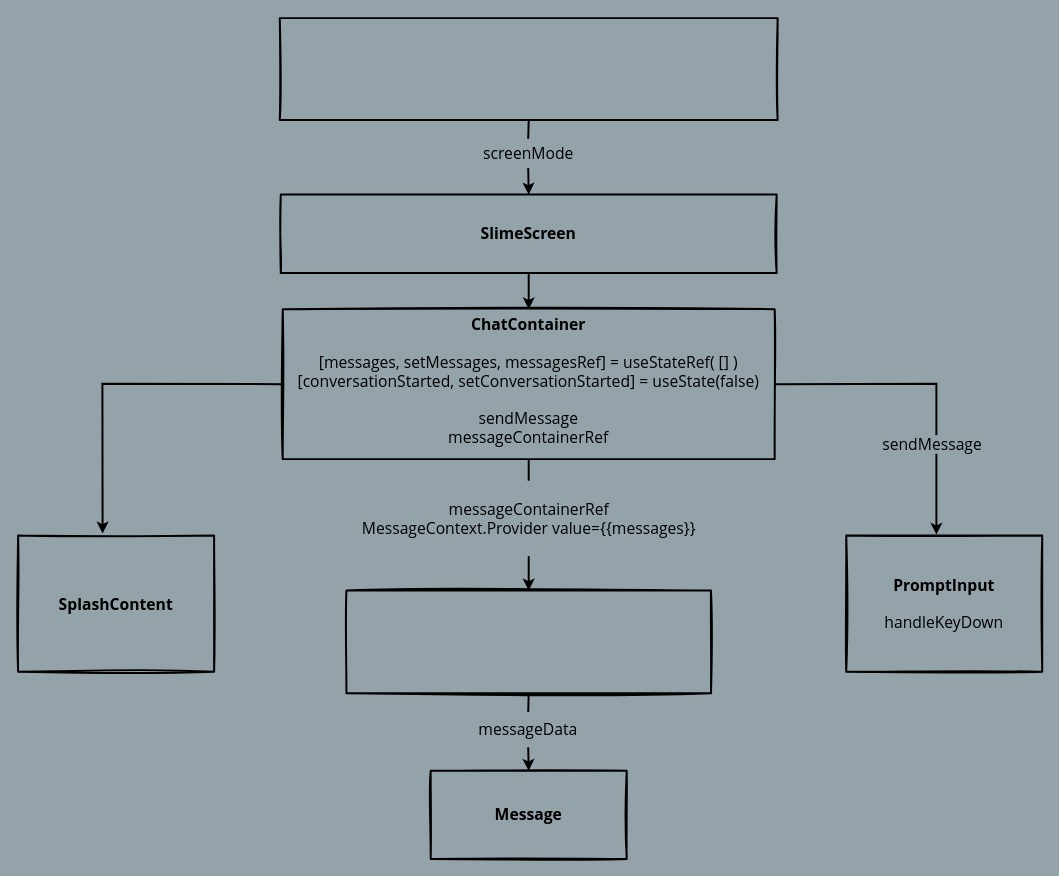
This 1059x876 diagram has some shape labels left out. The box of each missing label's shape, as (x1, y1, x2, y2) in pixels:
MessageContainer { messages } = useContext(MessageContext): (345, 589, 711, 694)
TrueScreen [screenMode, setScreenMode] = useState("default"): (278, 17, 778, 121)
